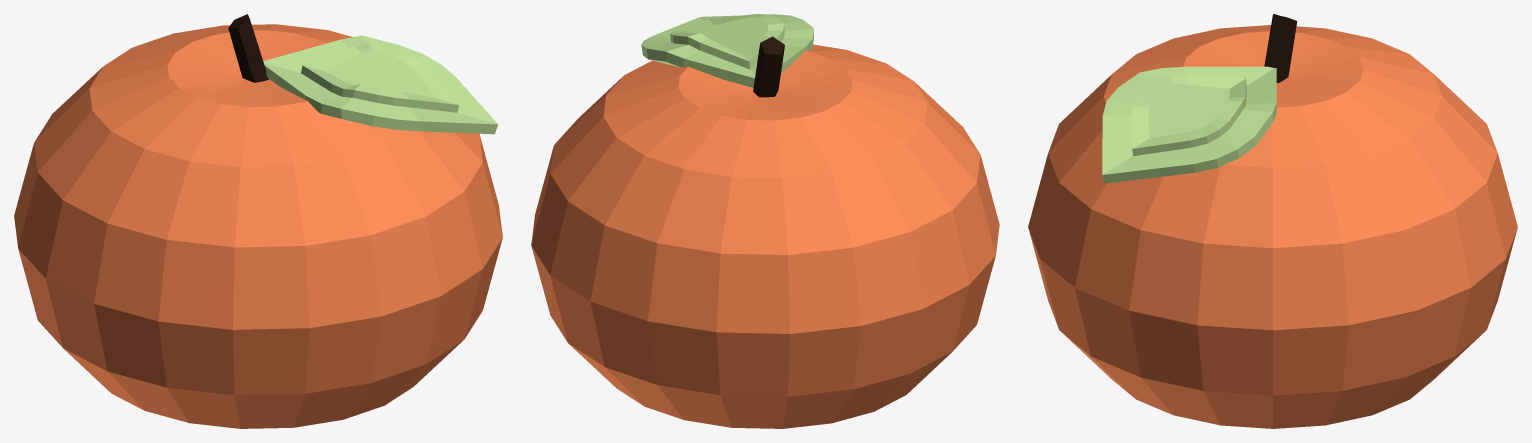
Rendered from tang.glb.
The picture shows the model from 3 angles, left to right: view 1: azimuth 30°, elevation 25°; view 2: azimuth 150°, elevation 25°; view 3: azimuth 270°, elevation 25°; orthographic projection. The views are drawn at different scales.
Visible parts, largest first — view 1: Torus, Cube, Cylinder; view 2: Torus, Cube, Cylinder; view 3: Torus, Cube, Cylinder.
Part boxes in pixels (box(x1,y1,x2,y2)): Torus: box(14, 24, 502, 428); Cube: box(263, 35, 498, 134); Cylinder: box(228, 14, 268, 82); Torus: box(531, 44, 999, 428); Cube: box(641, 14, 813, 87); Cylinder: box(753, 36, 784, 97); Torus: box(1028, 25, 1517, 428); Cube: box(1102, 66, 1276, 183); Cylinder: box(1264, 14, 1297, 82).
Bounding box in the file's own units: 0.7 × 0.5777 × 0.7.
